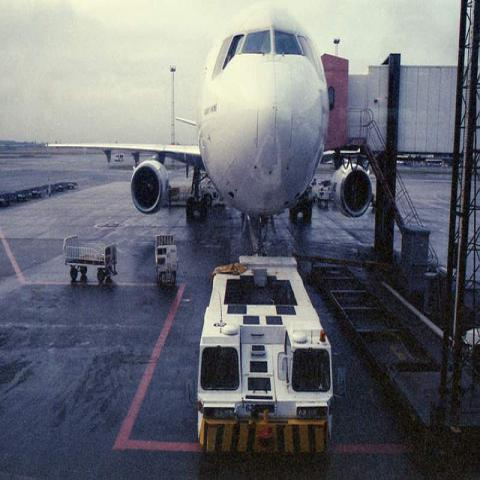truck: (195, 255, 331, 446), (149, 226, 178, 290)
